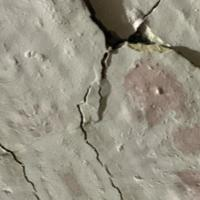crack: (54, 0, 186, 190)
